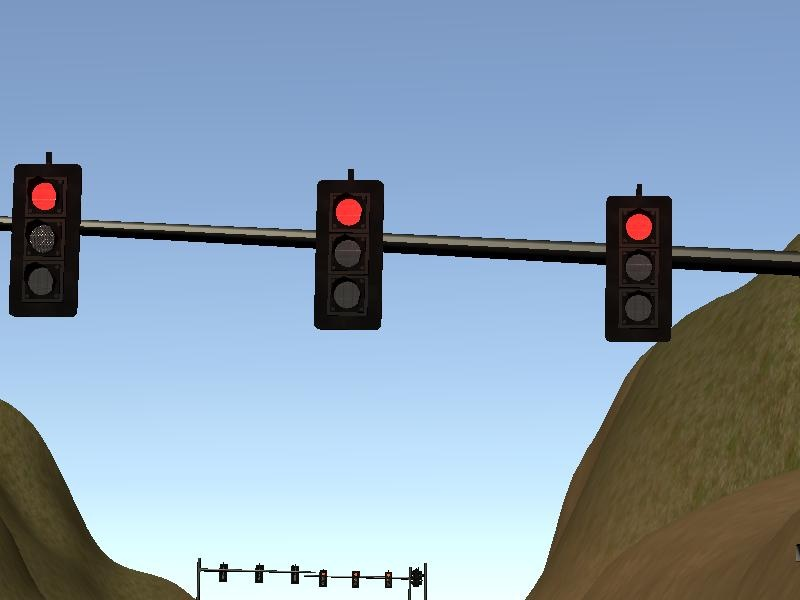RED: (313, 180, 385, 332), (8, 164, 80, 316), (604, 195, 673, 342)
